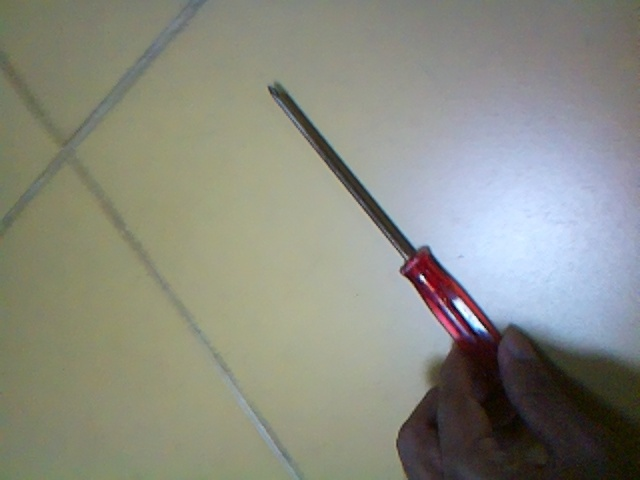redskrew: (263, 87, 498, 348)
